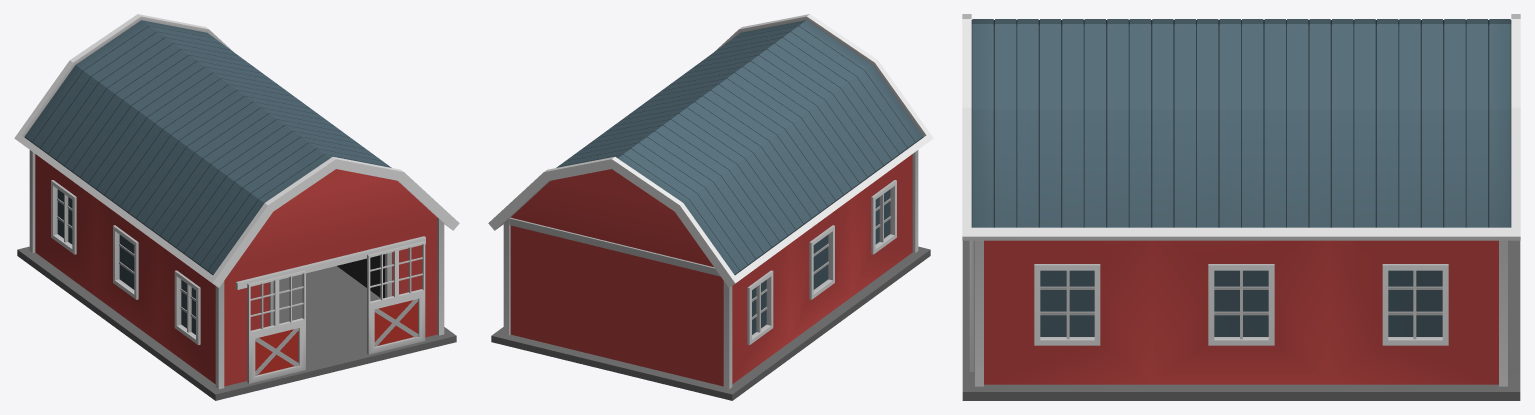
Rendered from hangar_004.glb.
3 views of the same model, side by side, from view 1: azimuth 30°, elevation 25°; view 2: azimuth 150°, elevation 25°; view 3: azimuth 270°, elevation 25° (orthographic). The views are drawn at different scales.
Parts seen in each view (by area): view 1: hangar_004; view 2: hangar_004; view 3: hangar_004.
Boxes of the visible parts, x1,y1,x2,y2 form: hangar_004: (14,14,459,400); hangar_004: (488,14,933,400); hangar_004: (962,14,1520,400).
Size of the model in its own units: 8.26 by 6.78 by 11.48.
1 material, 1 textured.
